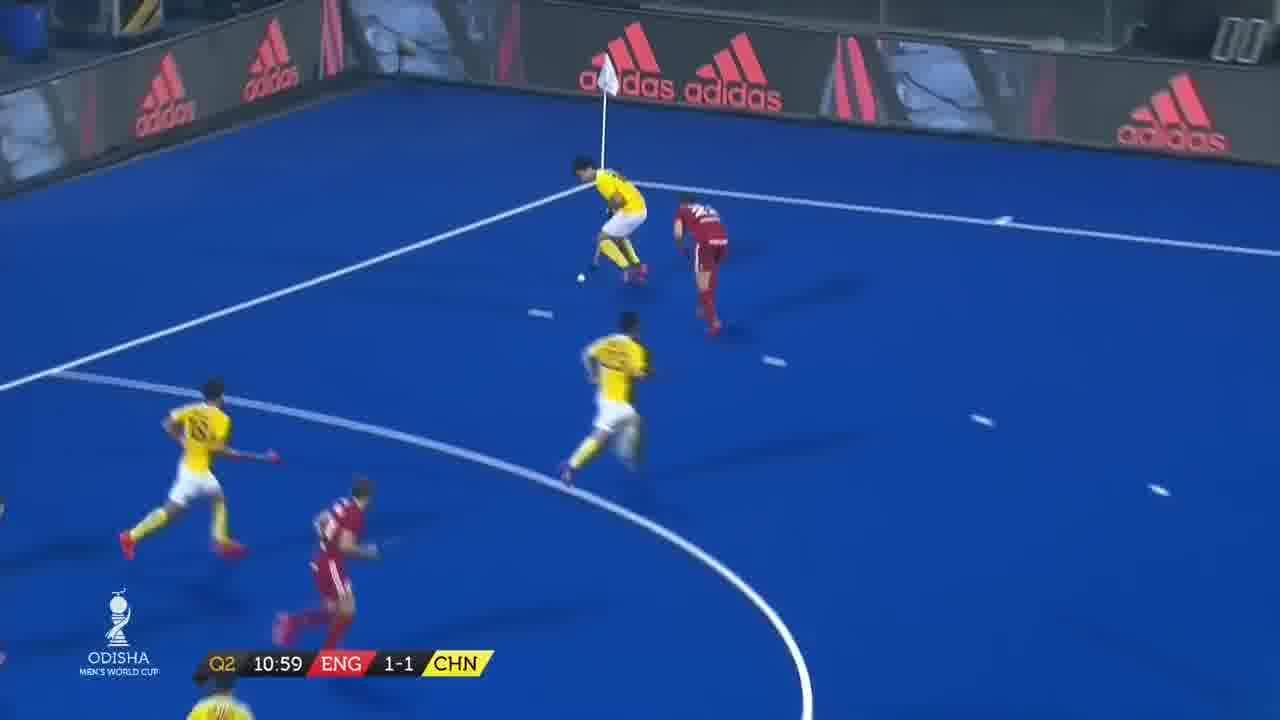ball: (568, 262, 592, 290)
